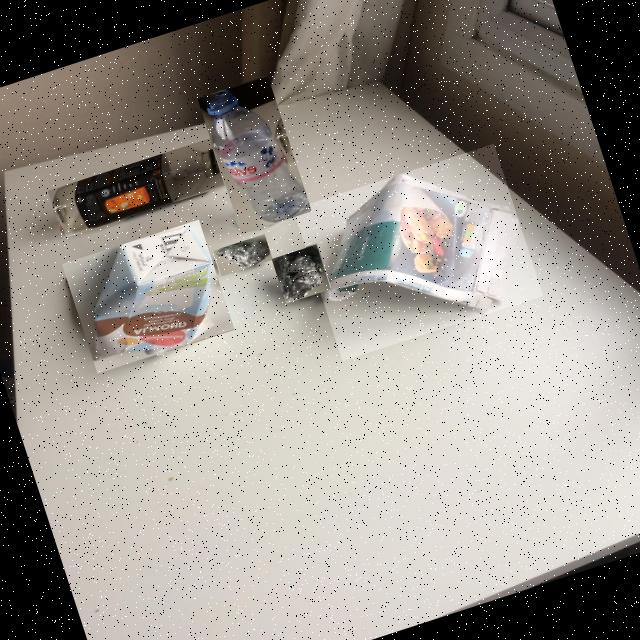Aluminium foil: (280, 252, 325, 301), (215, 242, 271, 268)
Clear plastic bottle: (54, 147, 231, 235), (207, 90, 307, 223)
Drink carton: (94, 228, 216, 362)
Meal carton: (323, 175, 519, 315)
